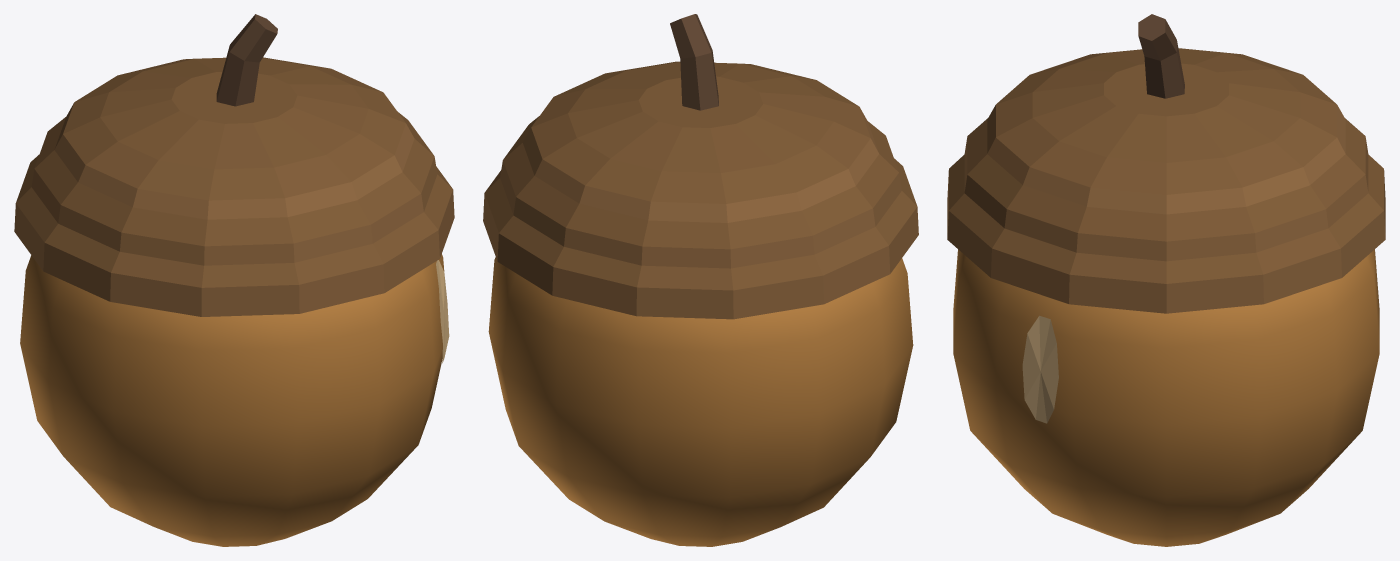
File: acorn.glb
3 renders of one model, left to right at view 1: azimuth 30°, elevation 25°; view 2: azimuth 150°, elevation 25°; view 3: azimuth 270°, elevation 25°, orthographic. The views are drawn at different scales.
Parts seen in each view (by area): view 1: acorn; view 2: acorn; view 3: acorn.
Part boxes in pixels (x1,y1,x2,y2): acorn: (14,14,454,546); acorn: (483,14,918,546); acorn: (947,14,1385,546).
Bounding box in the file's own units: 1.54 × 1.99 × 1.5.
